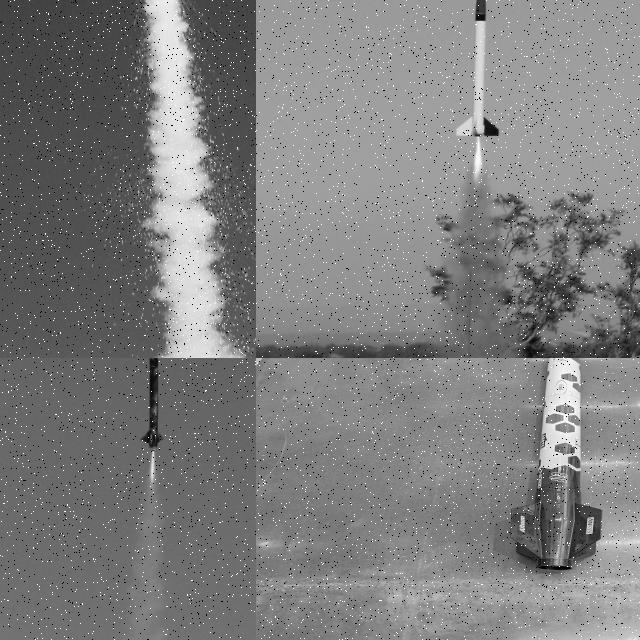Rocket: (510, 358, 603, 571), (455, 0, 499, 136), (139, 358, 165, 452)
